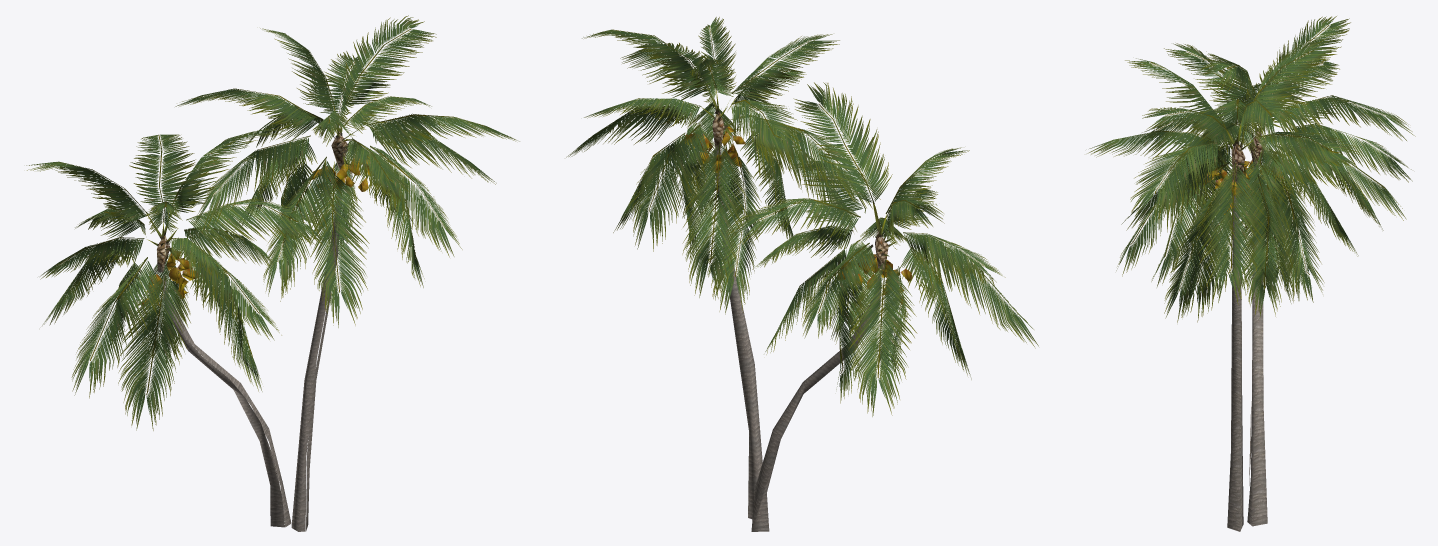
File: palm_coconut.glb
The picture shows the model from 3 angles, left to right: view 1: azimuth 30°, elevation 25°; view 2: azimuth 150°, elevation 25°; view 3: azimuth 270°, elevation 25°; orthographic projection. The views are drawn at different scales.
Parts seen in each view (by area): view 1: Tree_0_Tree_0Mat_0; view 2: Tree_0_Tree_0Mat_0; view 3: Tree_0_Tree_0Mat_0.
Boxes of the visible parts, <box> form: Tree_0_Tree_0Mat_0: <box>26,15,519,531</box>; Tree_0_Tree_0Mat_0: <box>566,17,1038,531</box>; Tree_0_Tree_0Mat_0: <box>1087,16,1415,531</box>.
Bounding box in the file's own units: 6.3 × 6.28 × 4.02.
Materials: 5 (5 with a texture image).
